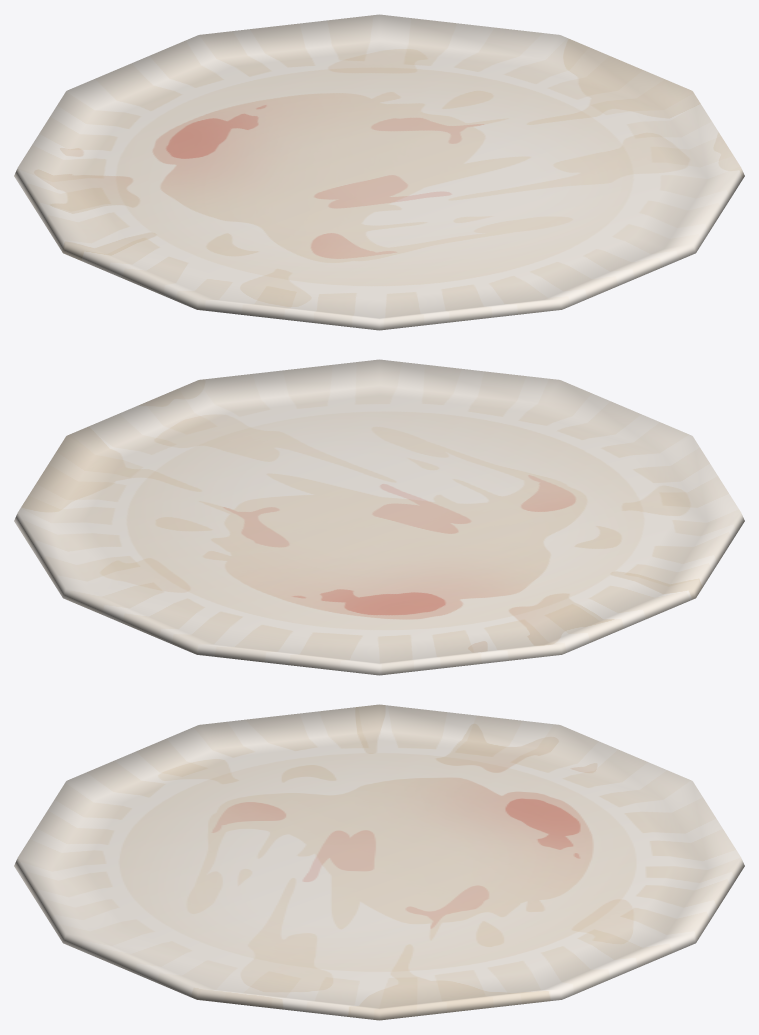
Rendered from PaperPlate.fbx.
3 views of the same model, one above another, from view 1: azimuth 30°, elevation 25°; view 2: azimuth 150°, elevation 25°; view 3: azimuth 270°, elevation 25° (orthographic).
Visible parts, largest first — view 1: PaperPlate; view 2: PaperPlate; view 3: PaperPlate.
Boxes of the visible parts, x1=… form: PaperPlate: x1=14, y1=14, x2=744, y2=330; PaperPlate: x1=14, y1=359, x2=744, y2=675; PaperPlate: x1=14, y1=704, x2=744, y2=1020.
Bounding box in the file's own units: 44.25 × 1.08 × 44.25.
